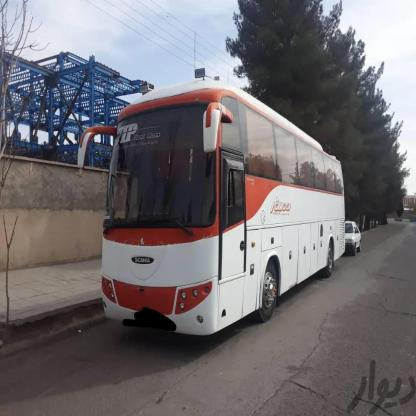Bus: (109, 90, 348, 354)
Car: (346, 216, 364, 256)
